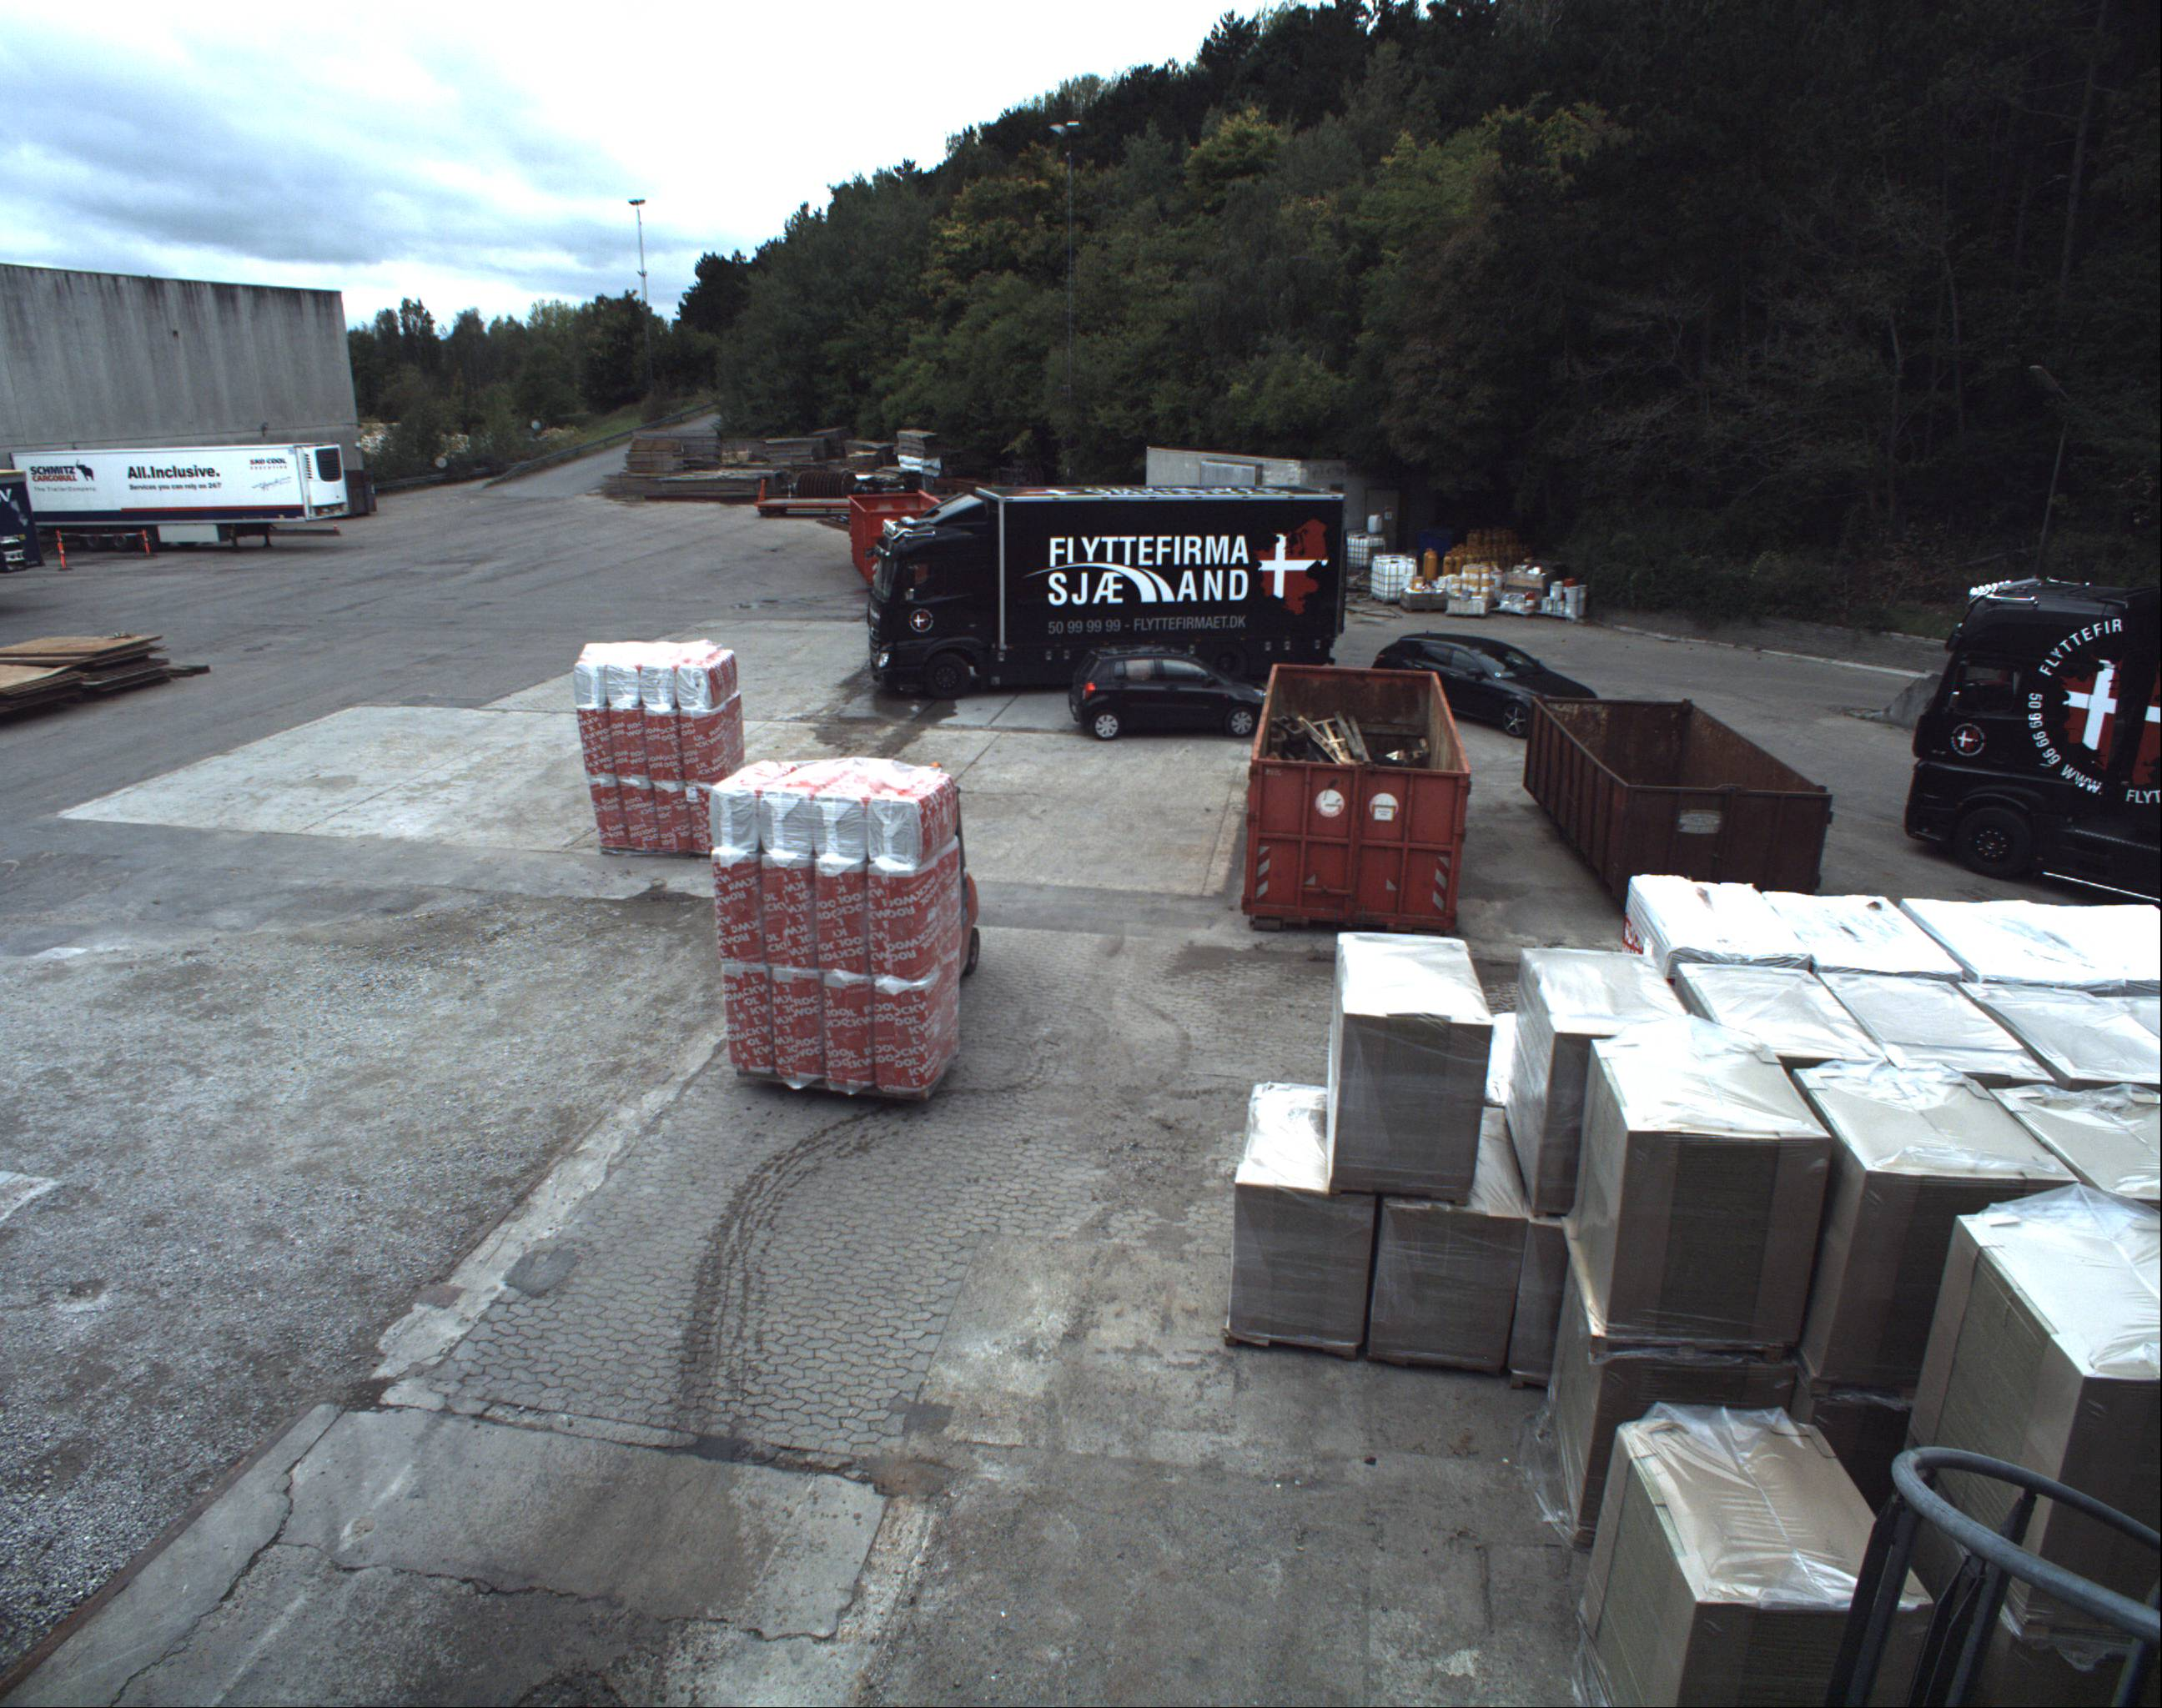rockwool_batts: (716, 758, 955, 1088), (572, 625, 737, 851)
